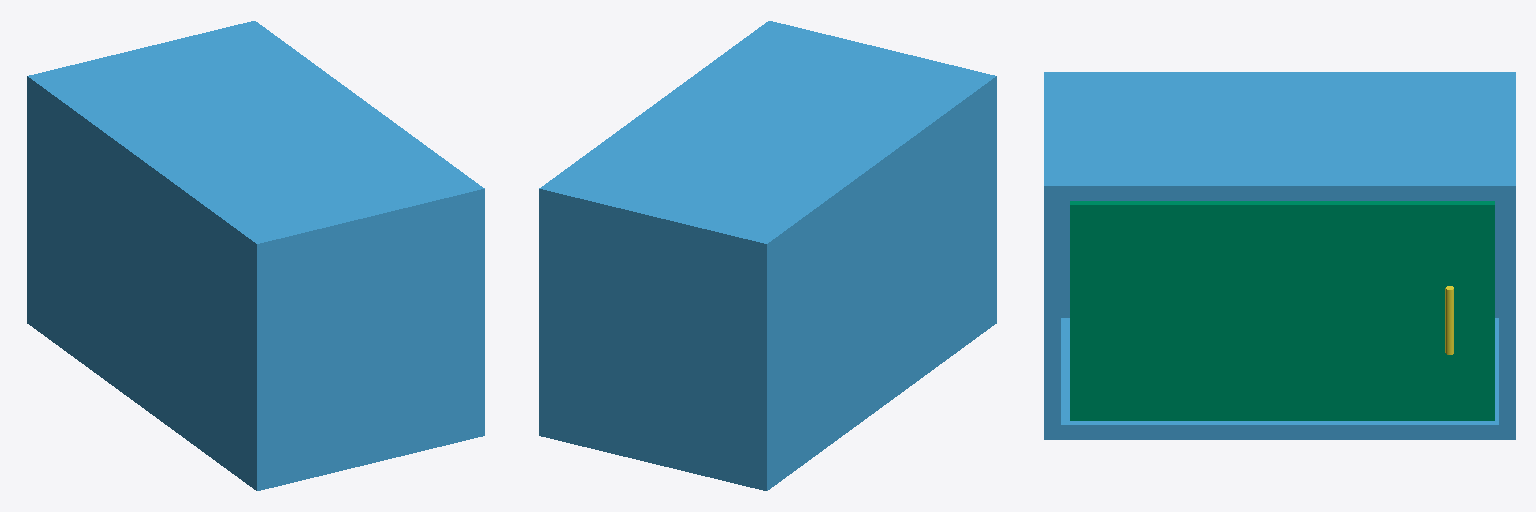
robot.urdf — my_cabinet:
<?xml version="1.0" ?>
<robot name="my_cabinet">
	<link name="world"/>
	<joint name="virtual_joint" type="fixed">
		<parent link="world"/>
		<child link="base_cabinet_link"/>
		<origin xyz="0.0 0.0 0.0" rpy="0.0 0.0 0.0"/>
	</joint>
	<link name="base_cabinet_link">
		<visual>
			<origin xyz="0.0 -0.0025 -0.14665894102423643" rpy="0.0 0.0 0.0"/>
			<geometry>
				<box size="0.3 0.5243464036646889 0.018"/>
			</geometry>
		</visual>
		<collision name="base_cabinet_link_collision_0">
			<origin xyz="0.0 -0.0025 -0.14665894102423643" rpy="0.0 0.0 0.0"/>
			<geometry>
				<box size="0.3 0.5243464036646889 0.018"/>
			</geometry>
		</collision>
		<visual>
			<origin xyz="0.0 0.25067320183234443 0.0" rpy="0.0 0.0 0.0"/>
			<geometry>
				<box size="0.3 0.018 0.3113178820484729"/>
			</geometry>
		</visual>
		<collision name="base_cabinet_link_collision_1">
			<origin xyz="0.0 0.25067320183234443 0.0" rpy="0.0 0.0 0.0"/>
			<geometry>
				<box size="0.3 0.018 0.3113178820484729"/>
			</geometry>
		</collision>
		<visual>
			<origin xyz="0.0 -0.25567320183234443 0.0" rpy="0.0 0.0 0.0"/>
			<geometry>
				<box size="0.3 0.018 0.3113178820484729"/>
			</geometry>
		</visual>
		<collision name="base_cabinet_link_collision_2">
			<origin xyz="0.0 -0.25567320183234443 0.0" rpy="0.0 0.0 0.0"/>
			<geometry>
				<box size="0.3 0.018 0.3113178820484729"/>
			</geometry>
		</collision>
		<visual>
			<origin xyz="0.0 -0.0025 0.14665894102423643" rpy="0.0 0.0 0.0"/>
			<geometry>
				<box size="0.3 0.5243464036646889 0.018"/>
			</geometry>
		</visual>
		<collision name="base_cabinet_link_collision_3">
			<origin xyz="0.0 -0.0025 0.14665894102423643" rpy="0.0 0.0 0.0"/>
			<geometry>
				<box size="0.3 0.5243464036646889 0.018"/>
			</geometry>
		</collision>
		<visual>
			<origin xyz="-0.141 -0.0025 0.0" rpy="0.0 0.0 0.0"/>
			<geometry>
				<box size="0.018 0.5243464036646889 0.3113178820484729"/>
			</geometry>
		</visual>
		<collision name="base_cabinet_link_collision_4">
			<origin xyz="-0.141 -0.0025 0.0" rpy="0.0 0.0 0.0"/>
			<geometry>
				<box size="0.018 0.5243464036646889 0.3113178820484729"/>
			</geometry>
		</collision>
		<inertial>
			<mass value="0.200000"/>
			<inertia ixx="0.006198" ixy="0.0" ixz="0.0" iyy="0.003115" iyz="0.0" izz="0.006082"/>
		</inertial>
	</link>
	<link name="door_link">
		<visual>
			<origin xyz="0.0 -0.23667320183234444 0.0"/>
			<geometry>
				<box size="0.018 0.4733464036646889 0.26531788204847284"/>
			</geometry>
		</visual>
		<collision name="door_link_collision">
			<origin xyz="0.0 -0.23667320183234444 0.0"/>
			<geometry>
				<box size="0.018 0.4733464036646889 0.26531788204847284"/>
			</geometry>
		</collision>
		<inertial>
			<mass value="0.200000"/>
			<inertia ixx="0.004908" ixy="0.0" ixz="0.0" iyy="0.001179" iyz="0.0" izz="0.003740"/>
		</inertial>
	</link>
	<joint name="door_joint" type="revolute">
		<origin xyz="0.141 -0.23667320183234444 0.0" rpy="0.000000 -0.000000 3.141593"/>
		<axis xyz="0 0 1"/>
		<parent link="base_cabinet_link"/>
		<child link="door_link"/>
		<limit effort="50" lower="-1.658062789394613" upper="0" velocity="10"/>
		<dynamics friction="3.5" damping="3.5"/>
	</joint>
	<link name="handle_link">
		<visual>
			<origin xyz="0.0 0.0 0.0" rpy="0.0 0.0 0.0"/>
			<geometry>
				<cylinder length="0.08" radius="0.005"/>
			</geometry>
		</visual>
		<collision name="handle_link_collision_0">
			<origin xyz="0.0 0.0 0.0" rpy="0.0 0.0 0.0"/>
			<geometry>
				<cylinder length="0.08" radius="0.005"/>
			</geometry>
		</collision>
		<visual>
			<origin xyz="-0.01 0.0 0.02" rpy="0.0 1.5707963267948966 0.0"/>
			<geometry>
				<cylinder length="0.02" radius="0.003"/>
			</geometry>
		</visual>
		<collision name="handle_link_collision_1">
			<origin xyz="-0.01 0.0 0.02" rpy="0.0 1.5707963267948966 0.0"/>
			<geometry>
				<cylinder length="0.01" radius="0.003"/>
			</geometry>
		</collision>
		<visual>
			<origin xyz="-0.01 0.0 -0.02" rpy="0.0 1.5707963267948966 0.0"/>
			<geometry>
				<cylinder length="0.02" radius="0.003"/>
			</geometry>
		</visual>
		<collision name="handle_link_collision_2">
			<origin xyz="-0.01 0.0 -0.02" rpy="0.0 1.5707963267948966 0.0"/>
			<geometry>
				<cylinder length="0.02" radius="0.003"/>
			</geometry>
		</collision>
		<inertial>
			<mass value="0.050000"/>
			<inertia ixx="0.000027" ixy="0.0" ixz="0.0" iyy="0.000029" iyz="0.0" izz="0.000003"/>
		</inertial>
	</link>
	<joint name="handle_joint" type="fixed">
		<origin xyz="-0.028999999999999998 -0.4233464036646889 0.0" rpy="0.000000 -0.000000 3.141593"/>
		<parent link="door_link"/>
		<child link="handle_link"/>
	</joint>
	<gazebo reference="base_cabinet_link">
		<sensor name="main_sensor" type="contact">
			<selfCollide>true</selfCollide>
			<alwaysOn>true</alwaysOn>
			<updateRate>5.0</updateRate>
			<material>Gazebo/Red</material>
			<contact>
				<collision>base_cabinet_link_collision_0_collision</collision>
				<collision>base_cabinet_link_collision_1_collision</collision>
				<collision>base_cabinet_link_collision_2_collision</collision>
				<collision>base_cabinet_link_collision_3_collision</collision>
				<collision>base_cabinet_link_collision_4_collision</collision>
			</contact>
			<plugin name="gazebo_ros_bumper_controller" filename="libgazebo_ros_bumper.so">
				<bumperTopicName>/contact</bumperTopicName>
				<frameName>world</frameName>
			</plugin>
		</sensor>
	</gazebo>
	<gazebo reference="door_link">
		<sensor name="main_sensor" type="contact">
			<selfCollide>true</selfCollide>
			<alwaysOn>true</alwaysOn>
			<updateRate>5.0</updateRate>
			<material>Gazebo/Red</material>
			<contact>
				<collision>door_link_collision_collision</collision>
			</contact>
			<plugin name="gazebo_ros_bumper_controller" filename="libgazebo_ros_bumper.so">
				<bumperTopicName>/contact_door</bumperTopicName>
				<frameName>contact_door</frameName>
			</plugin>
		</sensor>
	</gazebo>
	<gazebo reference="door_link">
		<mu>3.0</mu>
		<mu2>3.0</mu2>
		<kp>10000000</kp>
		<kd>100</kd>
	</gazebo>
</robot>

--- Facts derived from the render (not from the file) ---
3 views of the same robot in one strip: view 1: azimuth 30°, elevation 25°; view 2: azimuth 150°, elevation 25°; view 3: azimuth 270°, elevation 25° (orthographic).
Robot: my_cabinet — 4 links, 3 joints (1 revolute, 2 fixed); root link world; default pose: every joint at zero.
Links seen in each view (by area): view 1: base_cabinet_link; view 2: base_cabinet_link; view 3: door_link, base_cabinet_link, handle_link.
Link boxes in pixels (x1=…): base_cabinet_link: x1=27, y1=21, x2=484, y2=490; base_cabinet_link: x1=539, y1=21, x2=996, y2=490; door_link: x1=1070, y1=201, x2=1494, y2=420; base_cabinet_link: x1=1044, y1=72, x2=1515, y2=439; handle_link: x1=1445, y1=286, x2=1453, y2=354.
Bounding box of the posed robot: 0.325 × 0.5243 × 0.3113 m (x, y, z).
Geometry: primitives only (box / cylinder / sphere), no mesh files.
